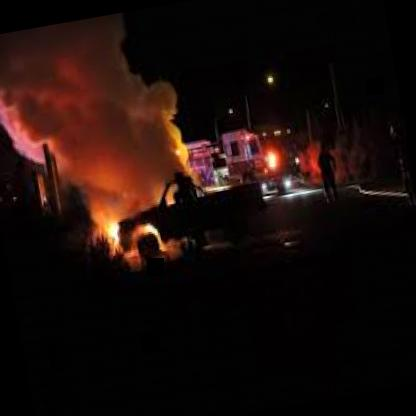fire: (29, 50, 206, 289)
